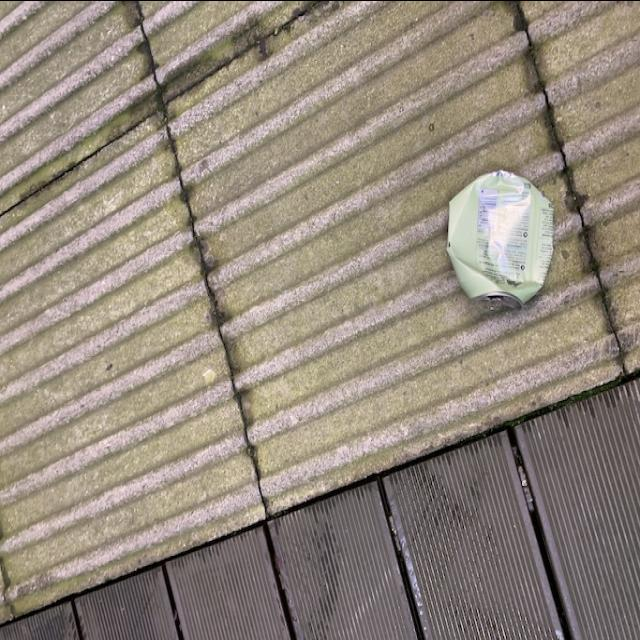Aluminum Can: (442, 168, 560, 310)
